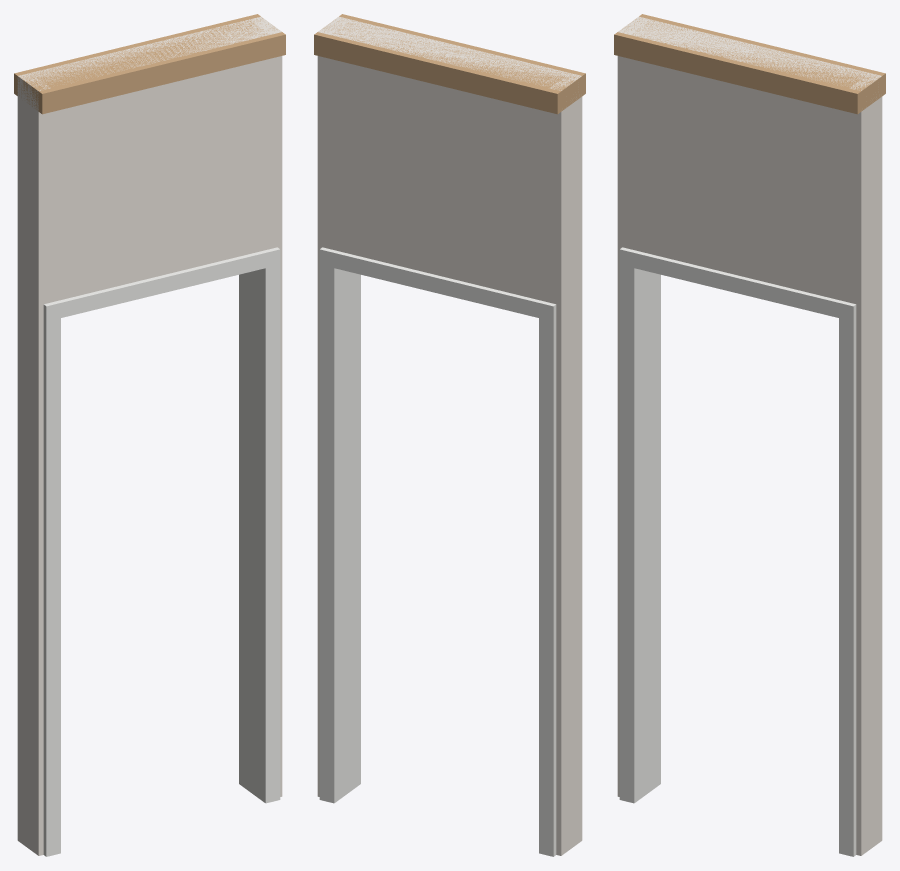
The model's file is wall_door_frame.glb.
3 views of the same model, side by side, from view 1: azimuth 30°, elevation 25°; view 2: azimuth 150°, elevation 25°; view 3: azimuth 330°, elevation 25° (orthographic).
Visible parts, largest first — view 1: wall_door_frame; view 2: wall_door_frame; view 3: wall_door_frame.
Part boxes in pixels (x1=…): wall_door_frame: x1=14, y1=14, x2=285, y2=856; wall_door_frame: x1=314, y1=14, x2=585, y2=856; wall_door_frame: x1=614, y1=14, x2=885, y2=856.
Bounding box in the file's own units: 1 × 3 × 0.2.
1 material, 1 textured.
